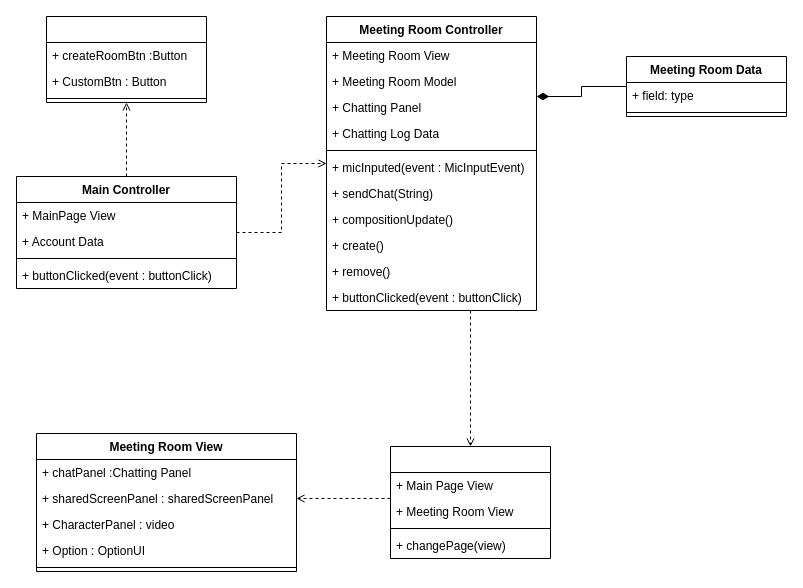
The diagram is 803 pixels wide and 588 high, and some of its shapes have lost their labels. Each missing label, with the box of its shape:
Main Page View: (46, 16, 206, 102)
Page Controller: (390, 446, 550, 558)
